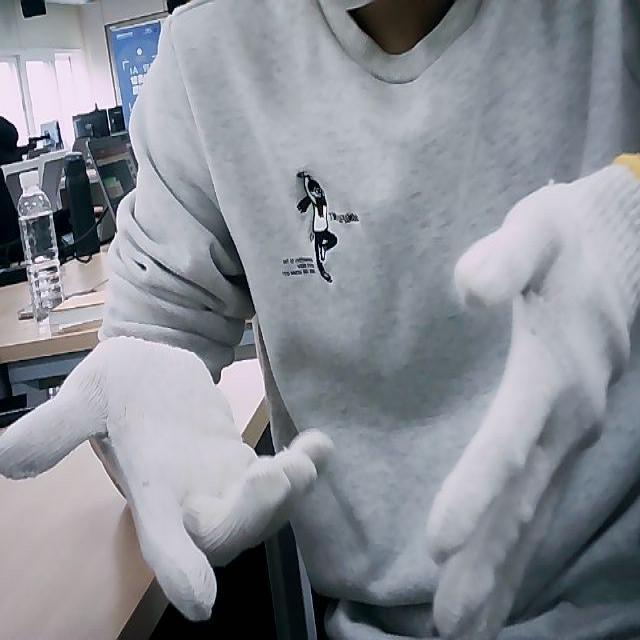gloves: (426, 146, 640, 640), (0, 334, 330, 622)
